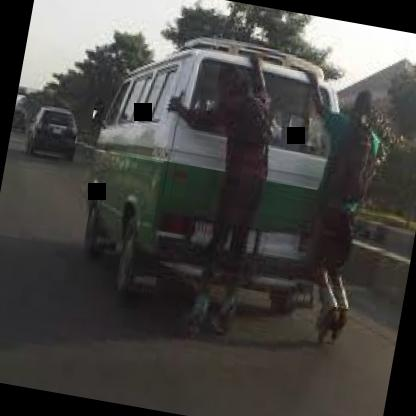car: (24, 92, 86, 172)
